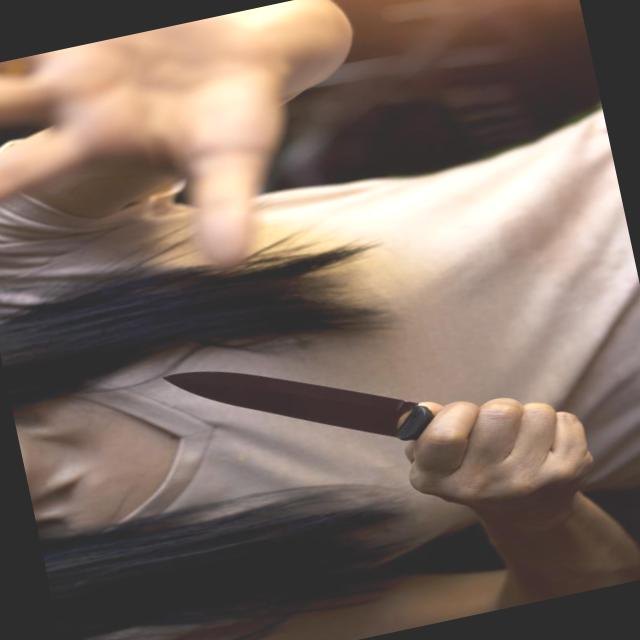knife: (148, 284, 602, 553)
